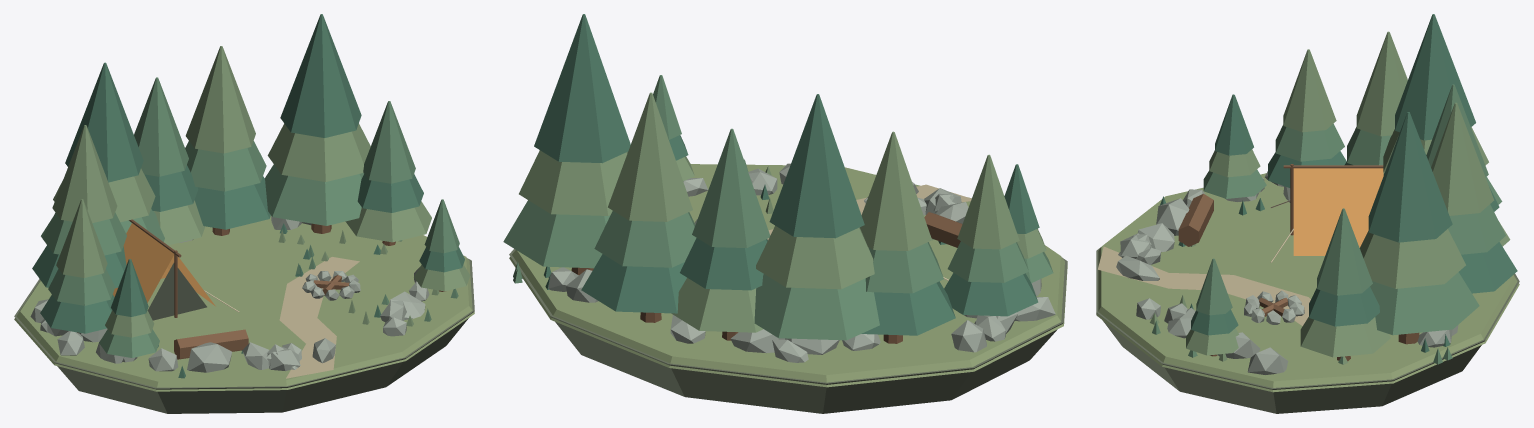
The model's file is camp.glb.
3 views of the same model, side by side, from view 1: azimuth 30°, elevation 25°; view 2: azimuth 150°, elevation 25°; view 3: azimuth 270°, elevation 25° (orthographic). The views are drawn at different scales.
Parts seen in each view (by area): view 1: Island · meadow, Island · earth, Pine crown 4 2, Pine crown 3 2, Pine crown 4 0, Pine crown 4 1, Pine crown 1 2, Trail, Pine crown 0 2, Pine crown 2 2, Pine crown 3 1, Pine crown 3 0 (+28 smaller); view 2: Island · meadow, Island · earth, Pine crown 4 2, Pine crown 1 2, Pine crown 1 0, Pine crown 3 2, Pine crown 1 1, Pine crown 2 2, Pine crown 0 2, Pine crown 4 1, Pine crown 4 0, Pine crown 3 0 (+22 smaller); view 3: Island · meadow, Island · earth, Pine crown 4 2, Tent canvas, Pine crown 4 0, Pine crown 1 2, Pine crown 4 1, Pine crown 3 2, Pine crown 0 2, Pine crown 5 2, Pine crown 5 0, Trail (+26 smaller).
Part boxes in pixels (x1,y1,x2,y2): Island · meadow: (14, 216, 474, 391); Island · earth: (14, 258, 474, 413); Pine crown 4 2: (280, 14, 361, 137); Pine crown 3 2: (185, 46, 255, 153); Pine crown 4 0: (265, 164, 363, 225); Pine crown 4 1: (267, 123, 370, 181); Pine crown 1 2: (65, 62, 143, 182); Trail: (279, 257, 359, 378); Pine crown 0 2: (52, 125, 117, 222); Pine crown 2 2: (134, 77, 188, 176); Pine crown 3 1: (185, 141, 266, 191); Pine crown 3 0: (194, 176, 270, 229); Island · meadow: (509, 164, 1067, 387); Island · earth: (509, 249, 1067, 413); Pine crown 4 2: (534, 14, 630, 163); Pine crown 1 2: (769, 94, 864, 238); Pine crown 1 0: (754, 274, 879, 340); Pine crown 3 2: (608, 92, 692, 221); Pine crown 1 1: (756, 225, 874, 289); Pine crown 2 2: (692, 128, 770, 247); Pine crown 0 2: (860, 131, 931, 250); Pine crown 4 1: (519, 150, 627, 215); Pine crown 4 0: (503, 200, 610, 268); Pine crown 3 0: (581, 254, 686, 313); Island · meadow: (1096, 173, 1519, 392); Island · earth: (1096, 247, 1519, 413); Pine crown 4 2: (1368, 112, 1452, 242); Tent canvas: (1293, 168, 1383, 255); Pine crown 4 0: (1370, 272, 1479, 335); Pine crown 1 2: (1395, 14, 1475, 140); Pine crown 4 1: (1359, 229, 1465, 288); Pine crown 3 2: (1431, 102, 1494, 215); Pine crown 0 2: (1356, 31, 1407, 136); Pine crown 5 2: (1317, 208, 1372, 295); Pine crown 5 0: (1300, 317, 1390, 357); Trail: (1098, 246, 1310, 325).
Bounding box in the file's own units: 10.2 × 5.98 × 8.48.
